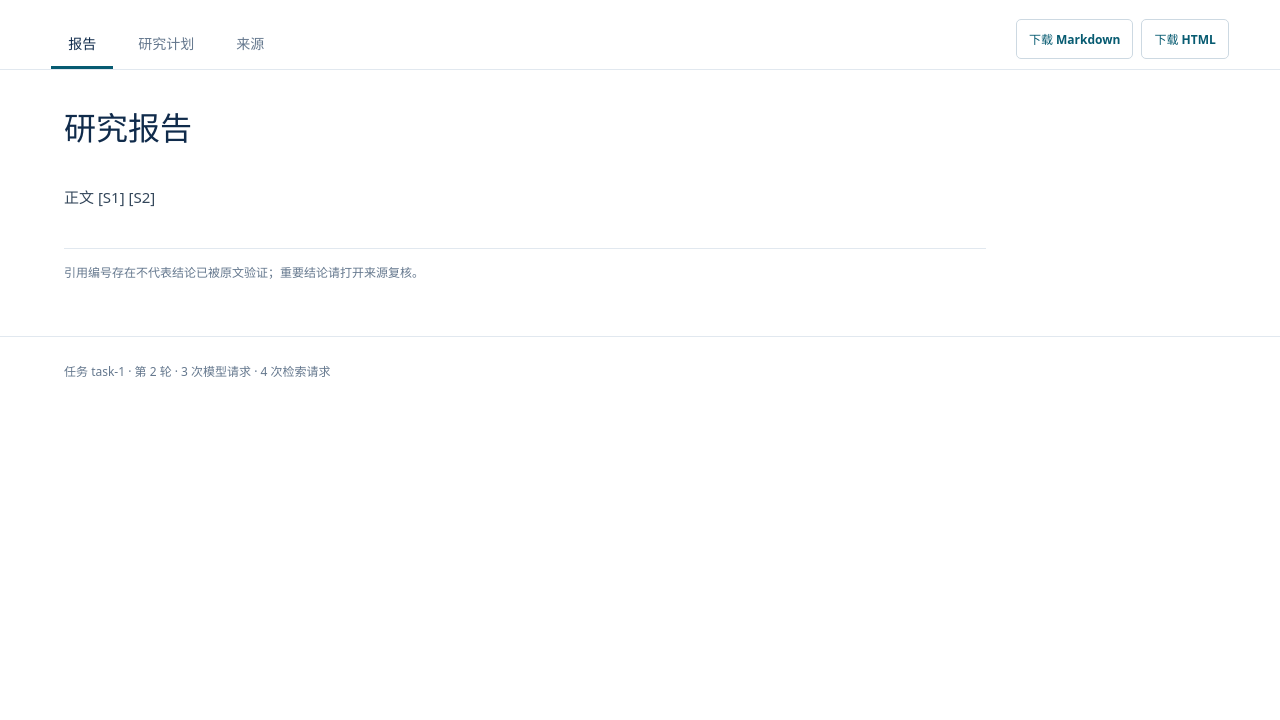
sourced report › shows markdown report and can switch to plan and sources
Expected: the heading "研究报告" is shown, [64,111,192,147]
Expected: the text "正文 [S1] [S2]" is shown, [64,187,155,207]
Click the tab "研究计划": (166, 44) [121,20,211,68]
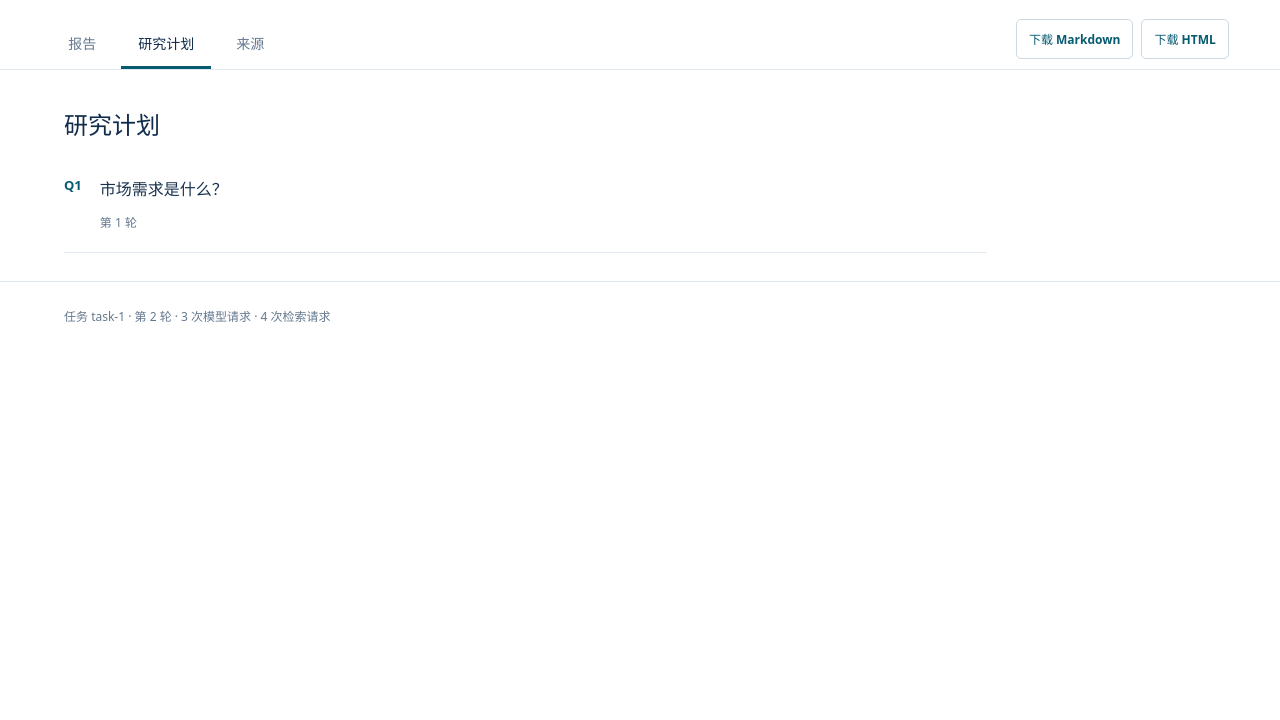
Result: the text "市场需求是什么？" is shown at [100,176,228,203]
Click the tab "来源": (250, 44) [219,20,281,68]
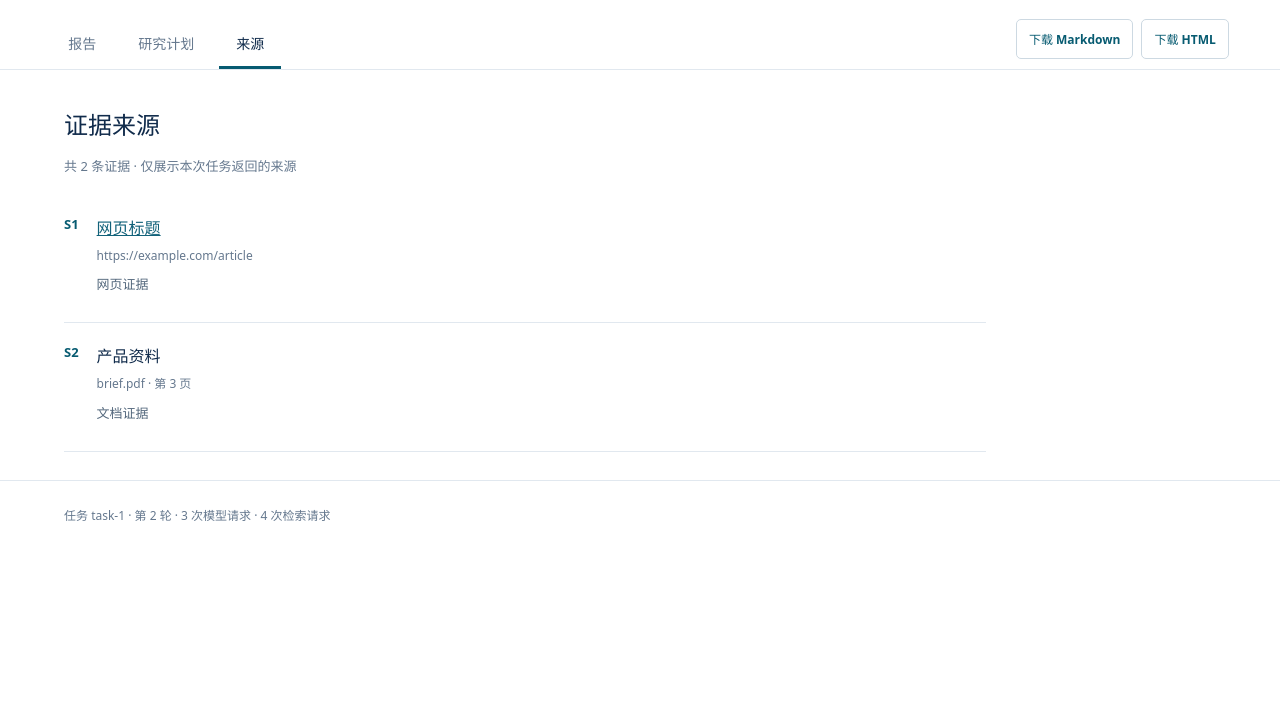
Result: the text "brief.pdf · 第 3 页" is shown at [97,374,191,395]
